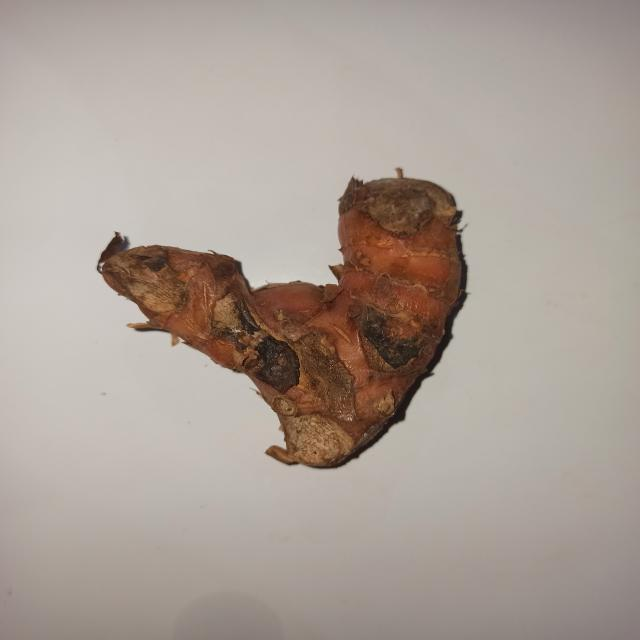ginger: (103, 188, 464, 461)
